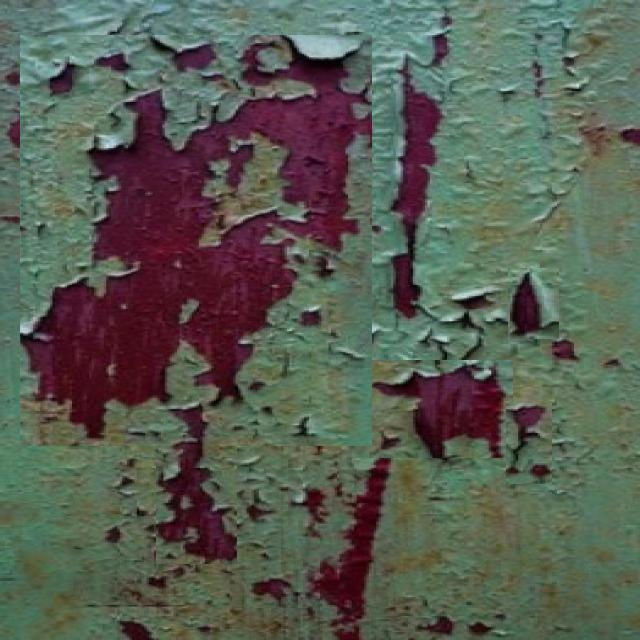Corrosion: (23, 36, 372, 436), (310, 459, 390, 640), (393, 59, 443, 318), (156, 406, 237, 562), (374, 365, 505, 458), (512, 272, 560, 335), (393, 254, 420, 318), (509, 405, 547, 442), (174, 43, 216, 70), (294, 491, 328, 524), (252, 580, 289, 602), (49, 63, 72, 94), (418, 617, 455, 636), (95, 52, 129, 70), (120, 624, 152, 640), (554, 339, 578, 360), (623, 128, 640, 144)
